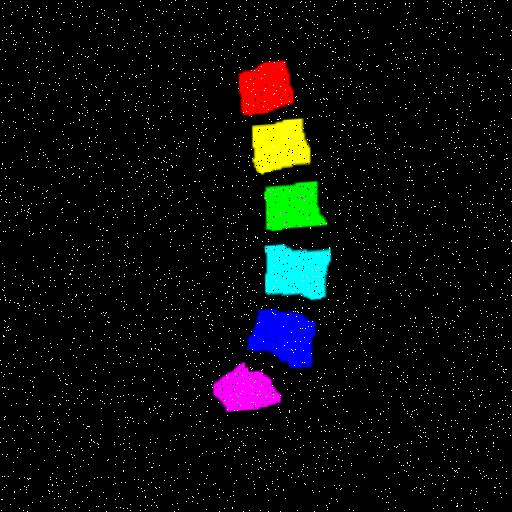L1: (240, 61, 295, 115)
L2: (254, 119, 313, 173)
L3: (268, 183, 329, 230)
L4: (268, 245, 334, 299)
L5: (252, 309, 320, 369)
S1: (218, 363, 286, 412)
